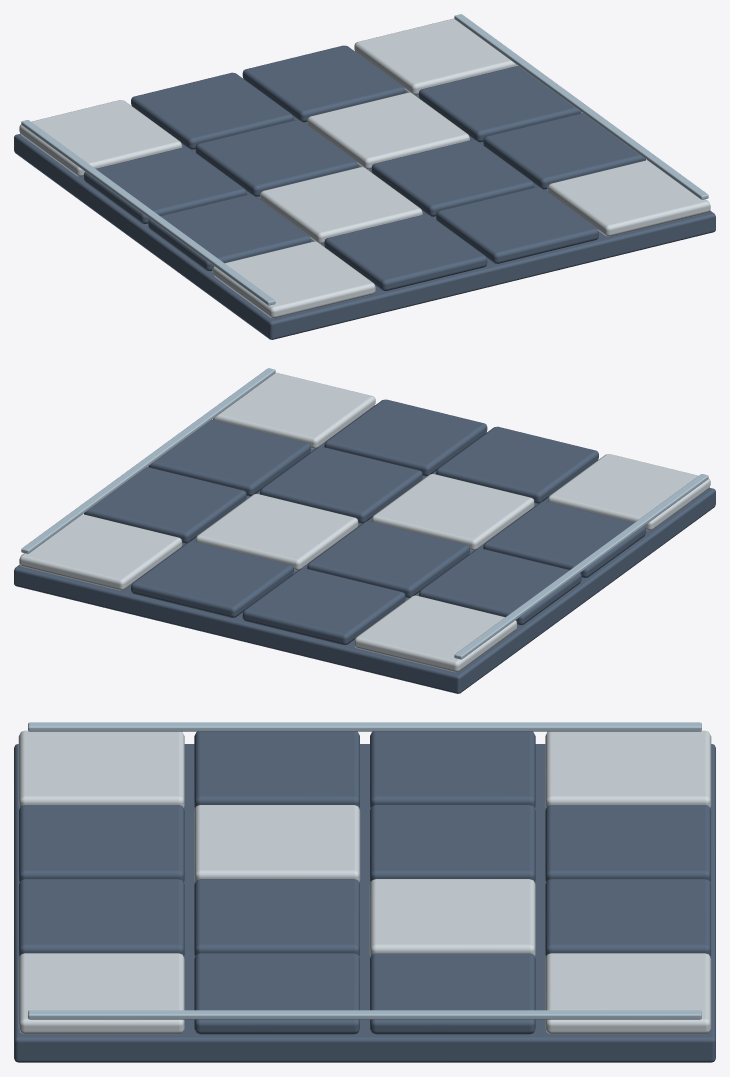
File: moonsteel-convergence-runestone-lane-2c2e0075__18179.glb
3 renders of one model, top to bottom at view 1: azimuth 30°, elevation 25°; view 2: azimuth 150°, elevation 25°; view 3: azimuth 270°, elevation 25°, orthographic. The views are drawn at different scales.
Parts seen in each view (by area): view 1: runestone-lane; view 2: runestone-lane; view 3: runestone-lane.
Boxes of the visible parts, x1,y1,x2,y2 form: runestone-lane: (14,14,715,339); runestone-lane: (14,368,715,693); runestone-lane: (14,722,715,1062).
Bounding box in the file's own units: 4 × 0.3 × 4.
